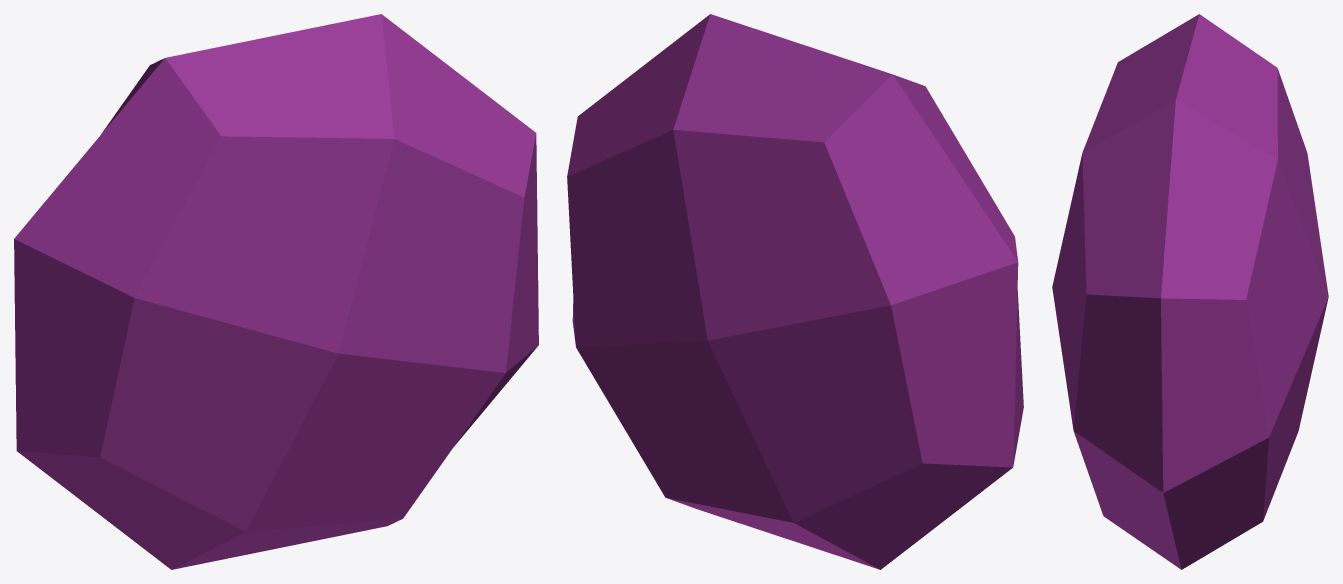
File: CrsytalWall.fbx
The picture shows the model from 3 angles, left to right: view 1: azimuth 30°, elevation 25°; view 2: azimuth 150°, elevation 25°; view 3: azimuth 270°, elevation 25°; orthographic projection. The views are drawn at different scales.
Visible parts, largest first — view 1: node_id4; view 2: node_id4; view 3: node_id4.
Part boxes in pixels (left/top/right/bottom): node_id4: left=14, top=14, right=538, bottom=569; node_id4: left=567, top=14, right=1023, bottom=569; node_id4: left=1052, top=14, right=1328, bottom=569.
Bounding box in the file's own units: 0.4738 × 0.4764 × 0.2544.
Materials: 1 (1 with a texture image).
